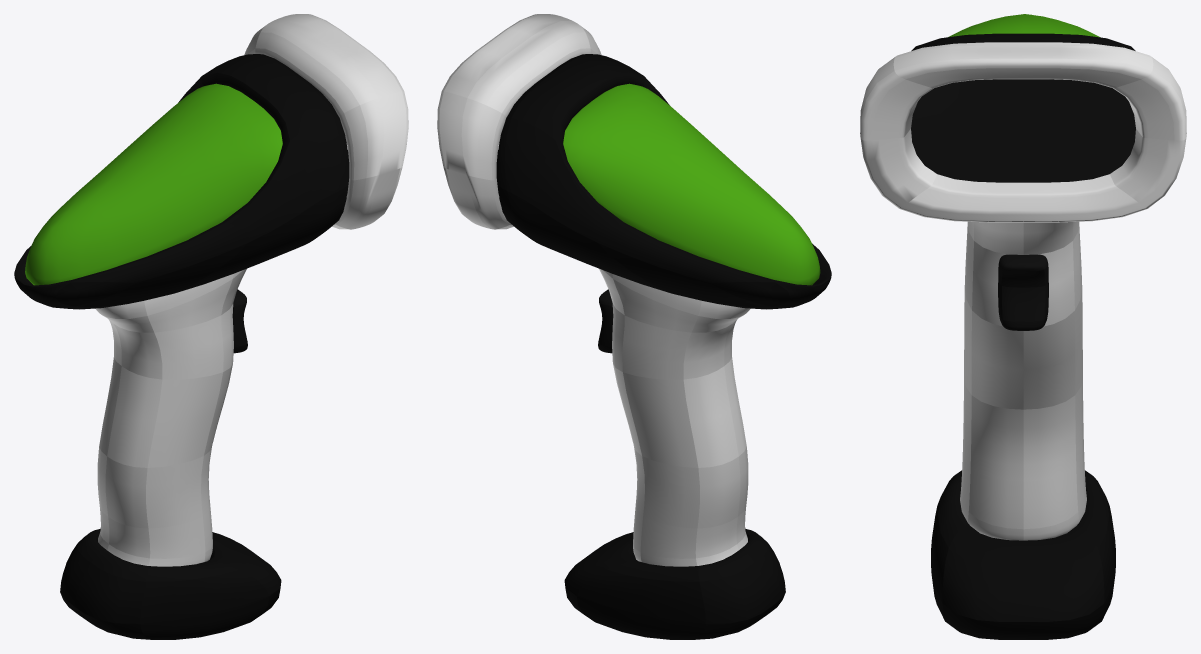
File: Scanner.FBX
3 views of the same model, side by side, from view 1: azimuth 30°, elevation 25°; view 2: azimuth 150°, elevation 25°; view 3: azimuth 270°, elevation 25° (orthographic). The views are drawn at different scales.
Visible parts, largest first — view 1: Cube.018, Shape005; view 2: Cube.018, Shape005; view 3: Cube.018, Shape005.
Boxes of the visible parts, box(x1,y1,x2,y2) form: Cube.018: box(14, 14, 408, 639); Shape005: box(25, 83, 282, 285); Cube.018: box(437, 14, 831, 639); Shape005: box(563, 83, 820, 285); Cube.018: box(860, 33, 1186, 639); Shape005: box(948, 14, 1100, 37).
Size of the model in its own units: 116 by 177 by 80.09.
